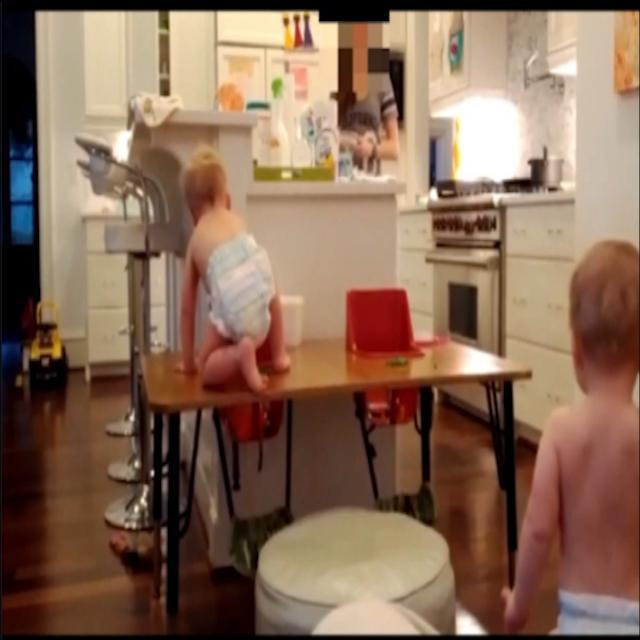child: (506, 240, 639, 633), (174, 149, 292, 394)
